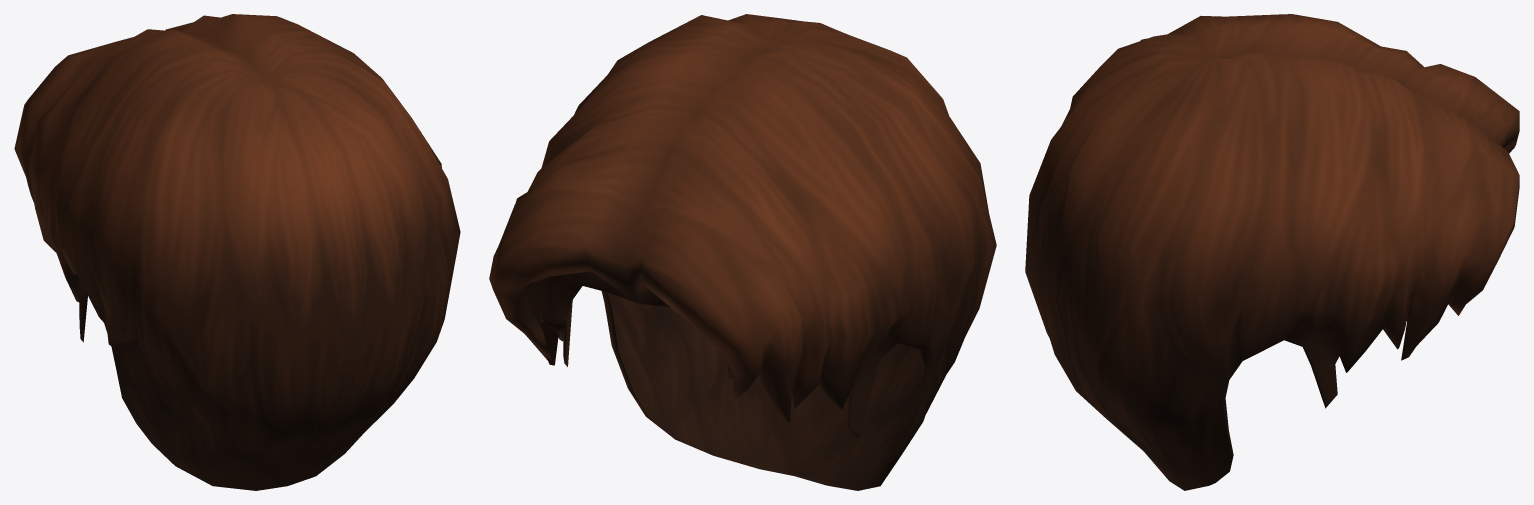
File: Hair_Male_006_textured_brown.glb
The picture shows the model from 3 angles, left to right: view 1: azimuth 30°, elevation 25°; view 2: azimuth 150°, elevation 25°; view 3: azimuth 270°, elevation 25°; orthographic projection. The views are drawn at different scales.
Visible parts, largest first — view 1: Hair_Male_006; view 2: Hair_Male_006; view 3: Hair_Male_006.
Boxes of the visible parts, bbox=[...] form: Hair_Male_006: bbox=[14, 14, 460, 490]; Hair_Male_006: bbox=[489, 14, 996, 490]; Hair_Male_006: bbox=[1025, 14, 1519, 490].
Bounding box in the file's own units: 0.195 × 0.2308 × 0.2425.
Materials: 1 (1 with a texture image).
